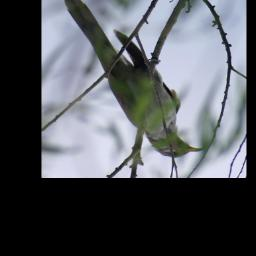Cuckoo: (56, 0, 202, 159)
